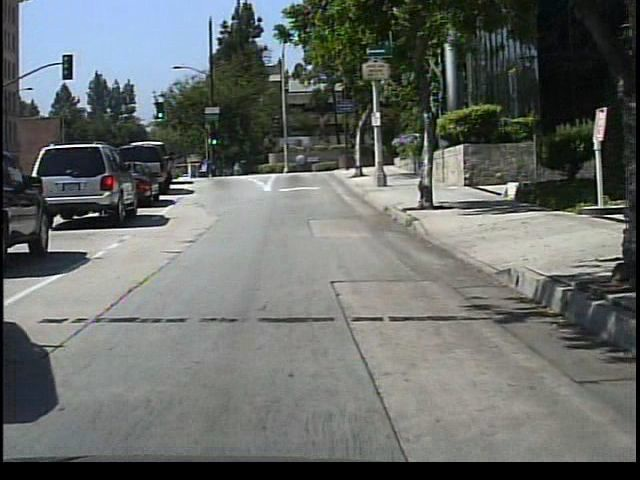person: (202, 154, 216, 177)
